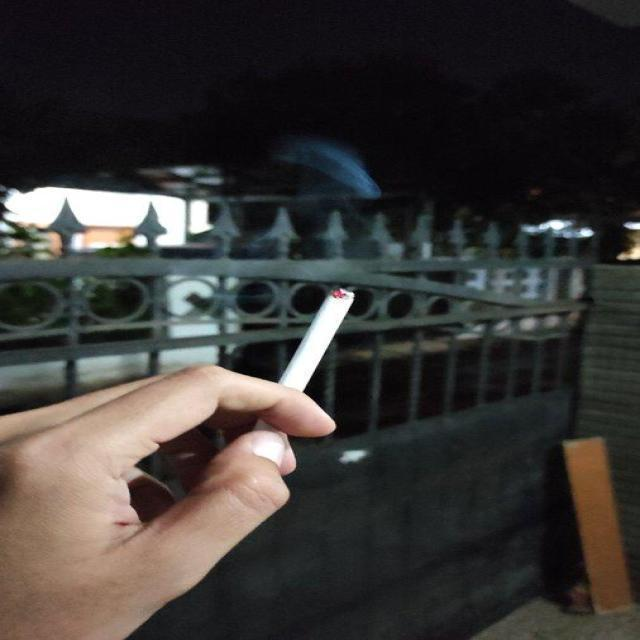rokok: (280, 286, 356, 398)
